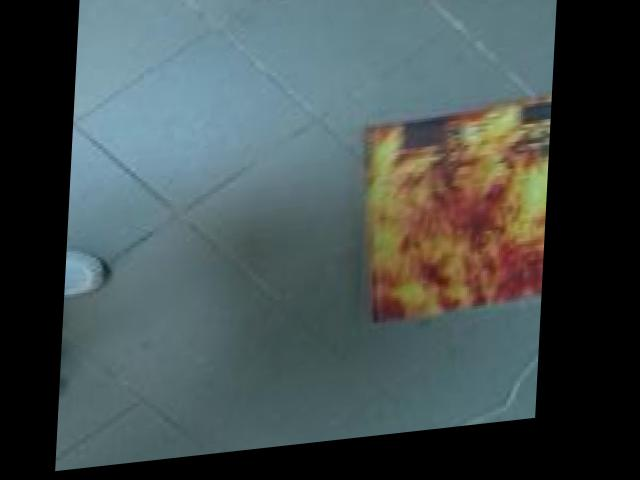fire-poster: (356, 100, 553, 342)
